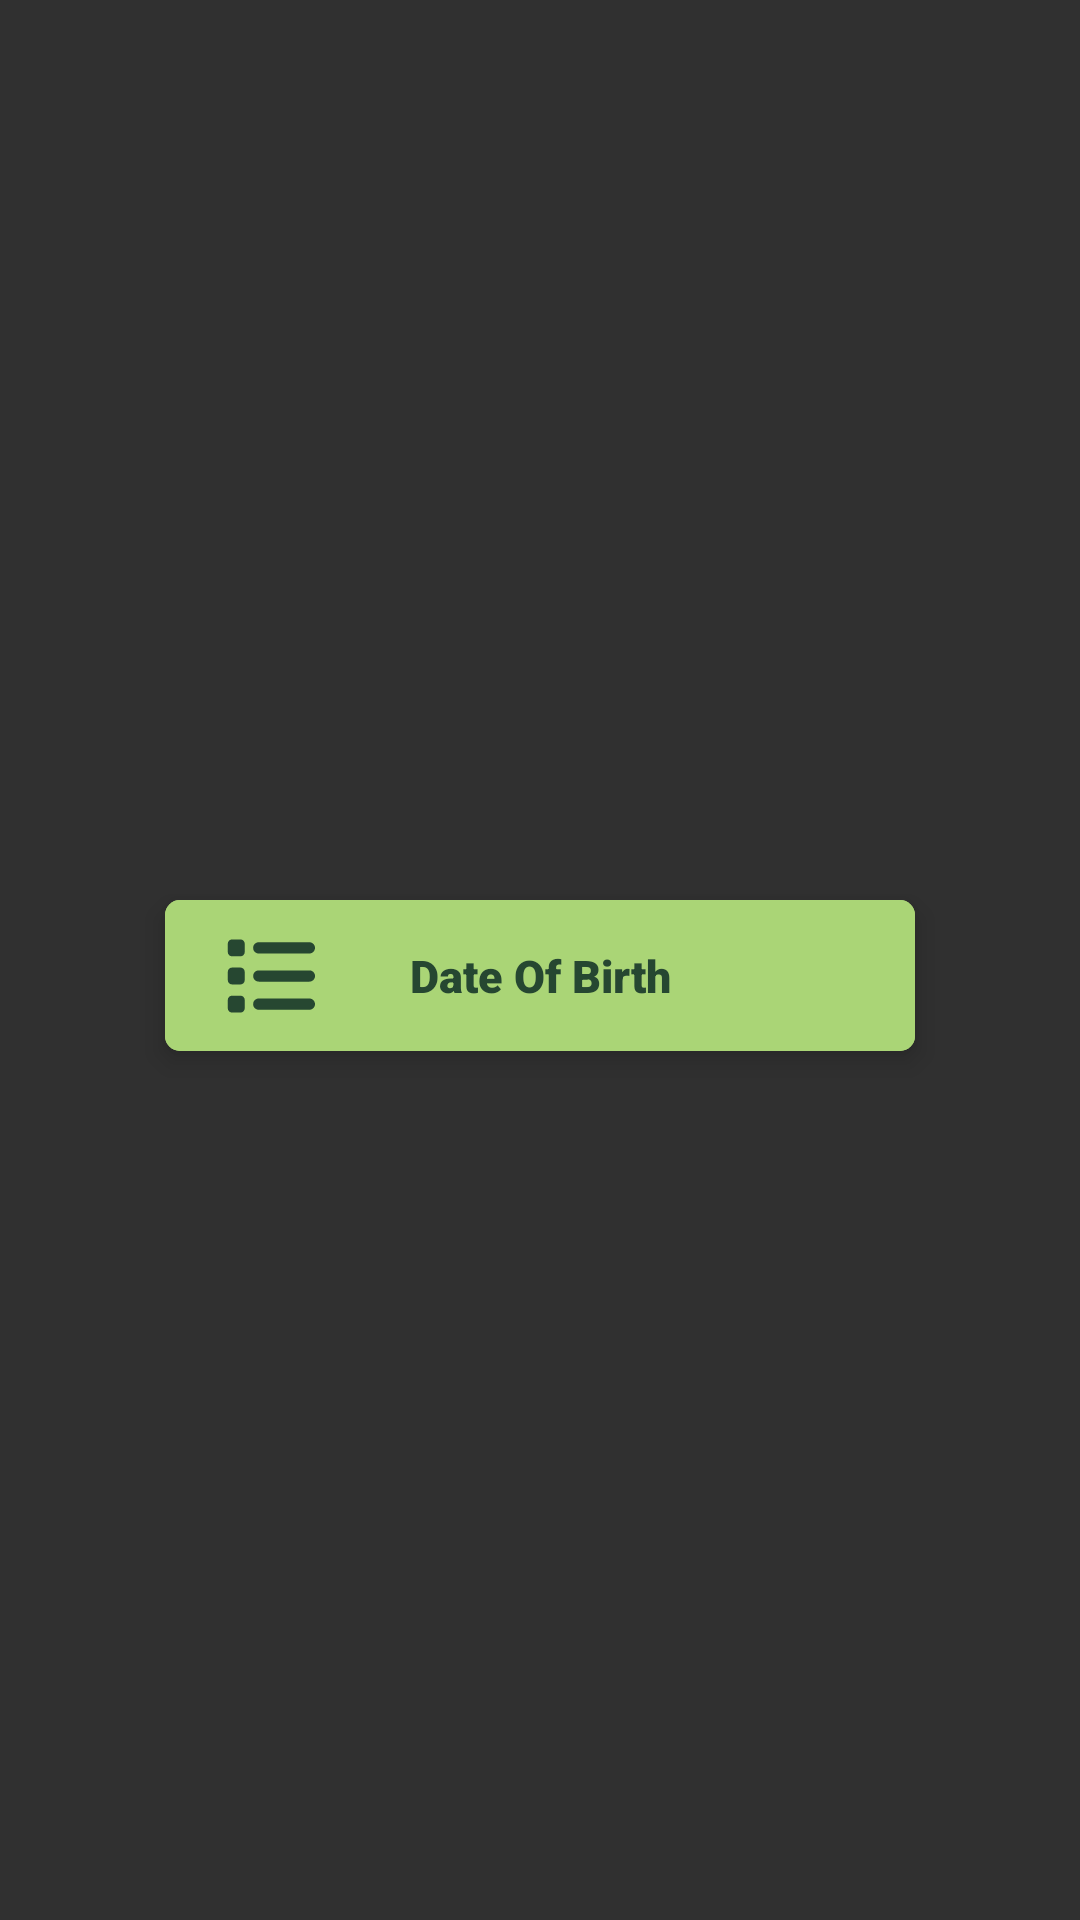

Where icons sit on this 1080x1920 app screen, as (x1, y1, x2, y2):
list: (227, 939, 315, 1013)
